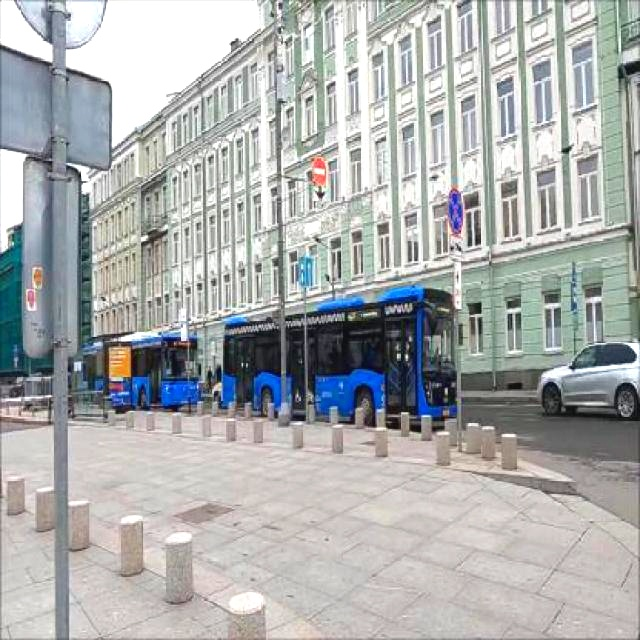bus: (208, 258, 476, 460), (69, 322, 203, 433)
car: (521, 328, 635, 428)
